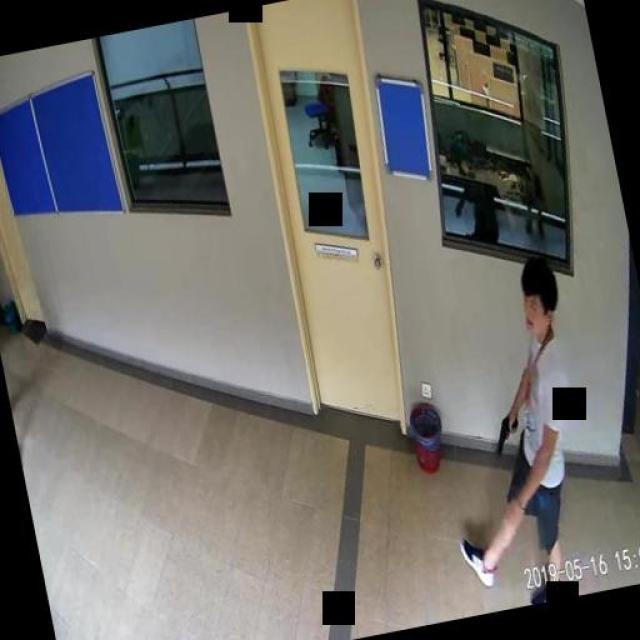gun: (488, 410, 522, 452)
